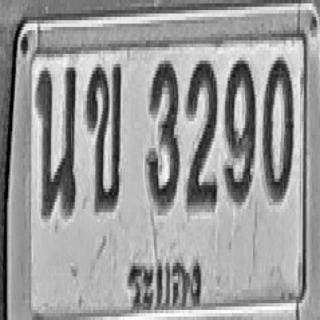A02: (86, 62, 122, 211)
A25: (36, 62, 77, 217)
N00: (262, 56, 293, 200)
N02: (185, 57, 218, 209)
N03: (146, 59, 180, 210)
N09: (224, 57, 256, 202)
P53: (125, 255, 206, 312)
